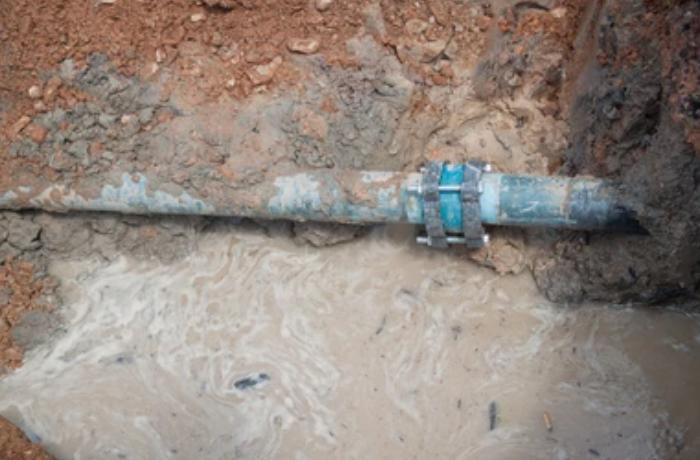water accumulation: (1, 215, 700, 460)
